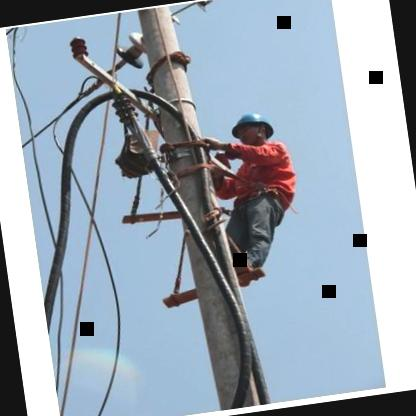helmet: (224, 105, 280, 152)
